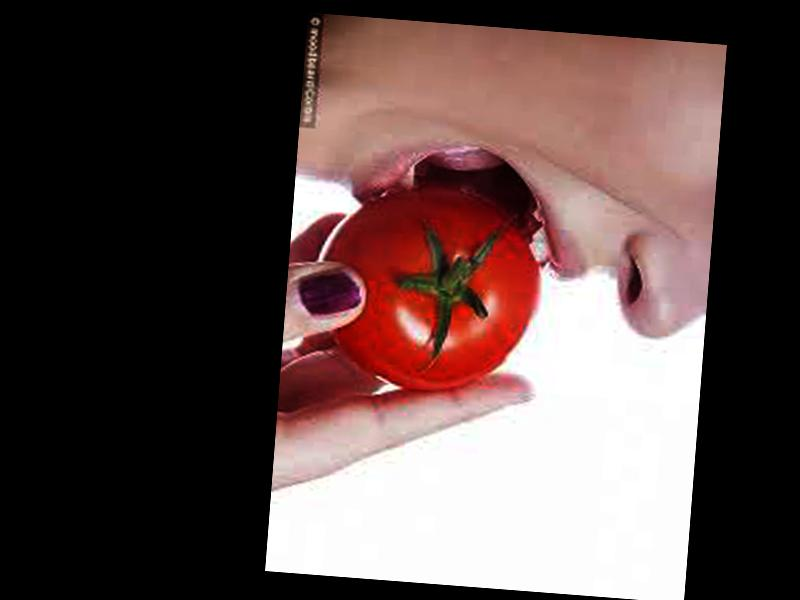Tomato: (308, 180, 546, 400)
